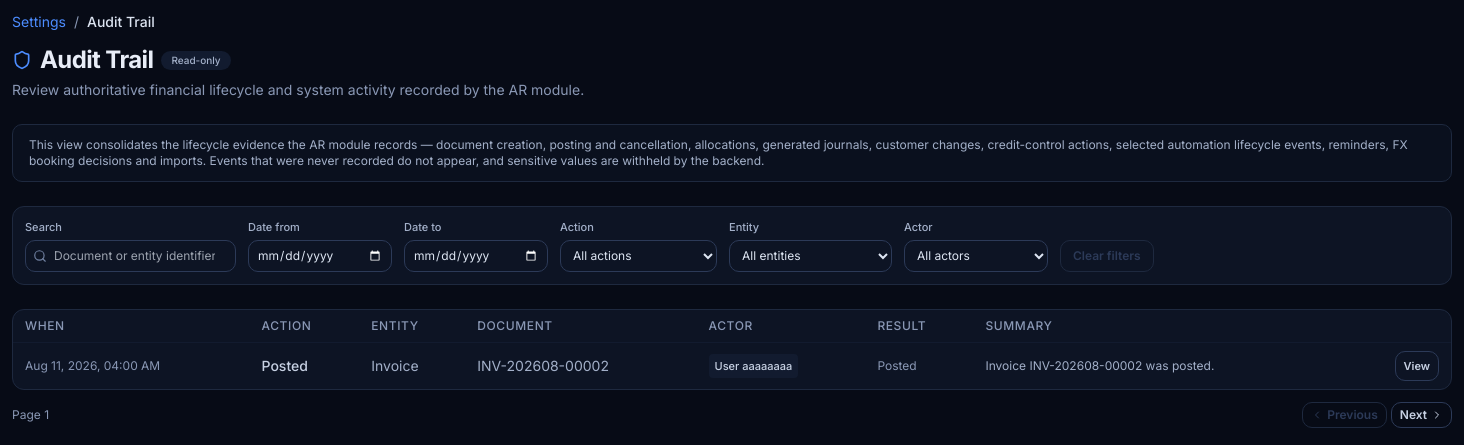
Test case: Audit activity view › navigates with the audit cursor
Expected: the text "Invoice INV-202608-00002 was posted." is shown, top-left (974, 342), bottom-right (1349, 388)
Click the button "Next" at (1421, 414), box top-left (1391, 402), bottom-right (1452, 428)
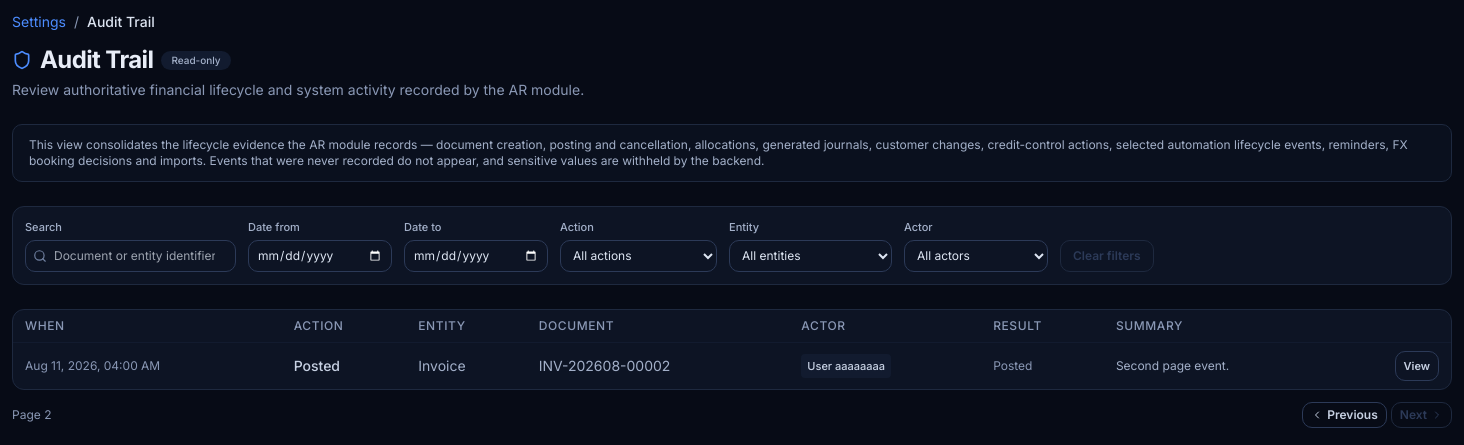
Result: the text "Second page event." is shown at top-left (1104, 342), bottom-right (1336, 388)
